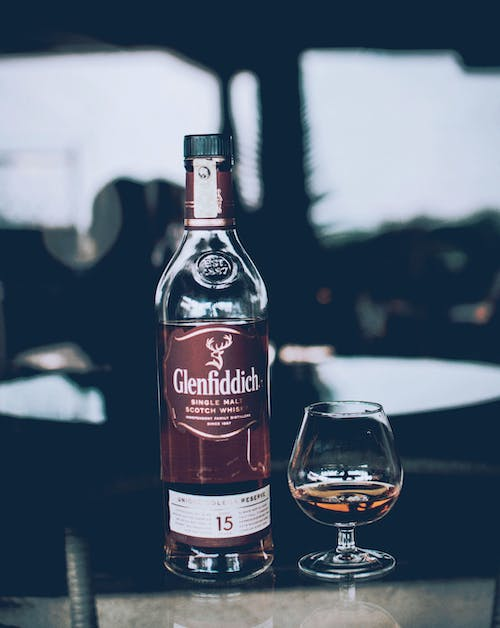alcohol: (153, 131, 277, 588), (285, 399, 405, 583)
